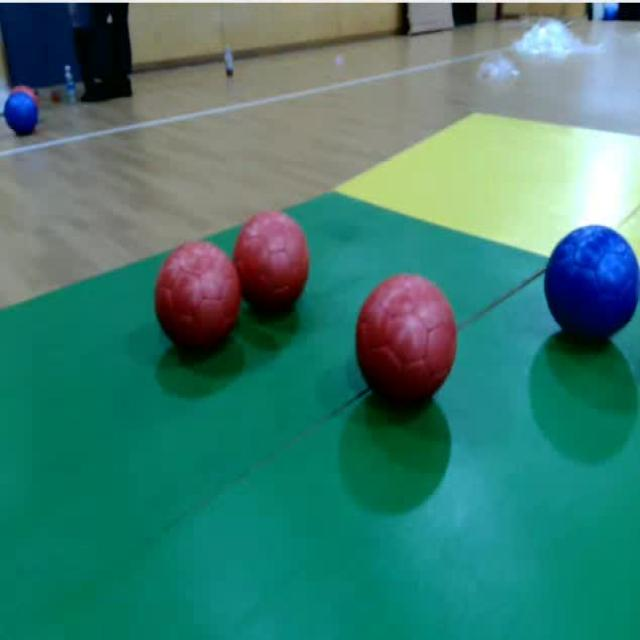blue_ball: (545, 222, 640, 353), (4, 90, 41, 139)
red_ball: (352, 274, 459, 415), (151, 237, 246, 364), (232, 202, 315, 322)
